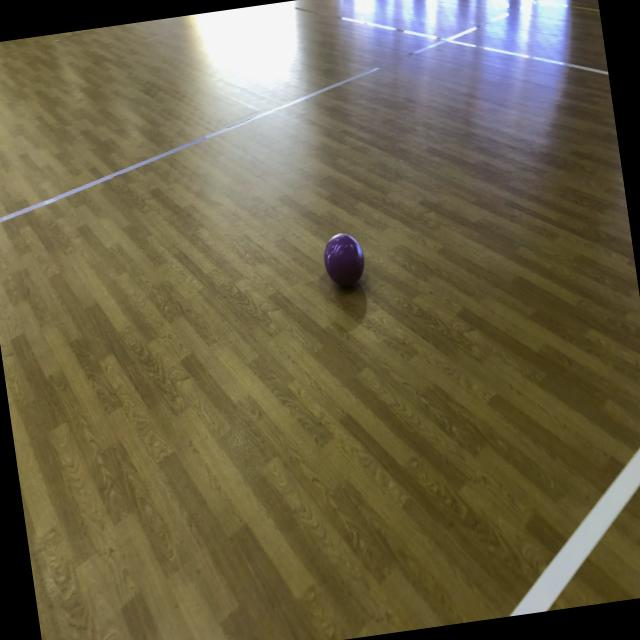purple_ball: (320, 228, 369, 292)
